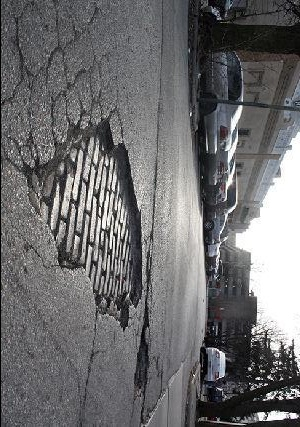pothole: (22, 110, 145, 328), (131, 332, 150, 398)
